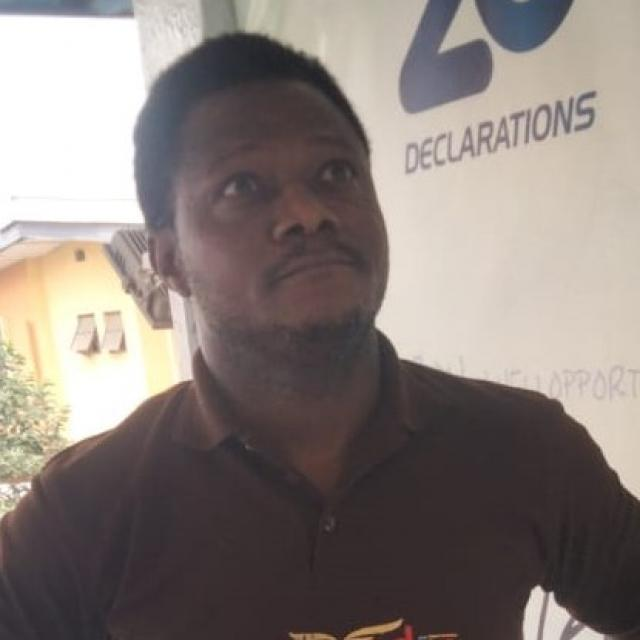sad: (141, 79, 394, 356)
